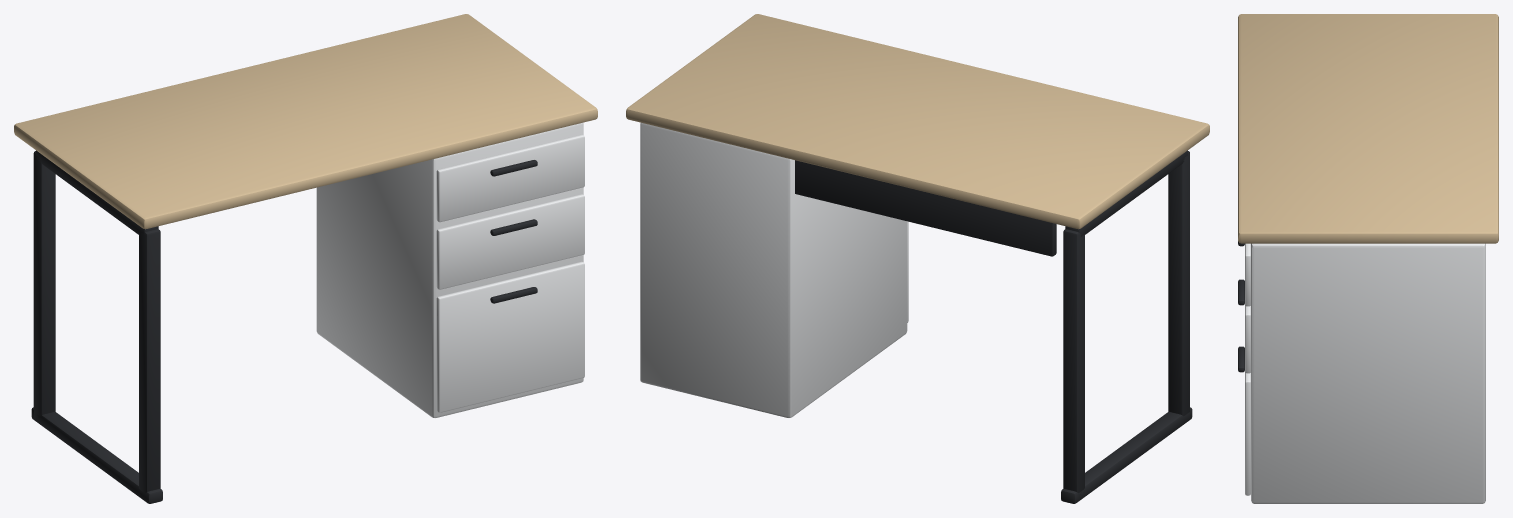
The model's file is desk.glb.
3 views of the same model, side by side, from view 1: azimuth 30°, elevation 25°; view 2: azimuth 150°, elevation 25°; view 3: azimuth 270°, elevation 25° (orthographic).
Parts seen in each view (by area): view 1: box, box.006, box.007, box.009, box.011, box.003, box.002, box.001, box.004; view 2: box, box.006, box.005, box.003, box.002, box.001, box.004; view 3: box.006, box, box.007, box.009, box.011.
Part boxes in pixels (bbox=[...]): box: bbox=[14, 14, 597, 229]; box.006: bbox=[316, 122, 583, 418]; box.007: bbox=[436, 261, 584, 412]; box.009: bbox=[436, 194, 584, 289]; box.011: bbox=[436, 134, 584, 222]; box.003: bbox=[33, 151, 55, 424]; box.002: bbox=[139, 229, 160, 501]; box.001: bbox=[31, 407, 162, 503]; box.004: bbox=[36, 150, 158, 234]; box: bbox=[626, 14, 1209, 228]; box.006: bbox=[640, 122, 907, 417]; box.005: bbox=[795, 160, 1056, 256]; box.003: bbox=[1063, 229, 1084, 501]; box.002: bbox=[1168, 151, 1189, 424]; box.001: bbox=[1061, 407, 1192, 503]; box.004: bbox=[1065, 150, 1187, 236]; box.006: bbox=[1251, 243, 1485, 503]; box: bbox=[1238, 14, 1498, 243]; box.007: bbox=[1245, 372, 1250, 495]; box.009: bbox=[1245, 305, 1250, 373]; box.011: bbox=[1245, 243, 1250, 306].
Size of the model in its own units: 120 by 74 by 60.
